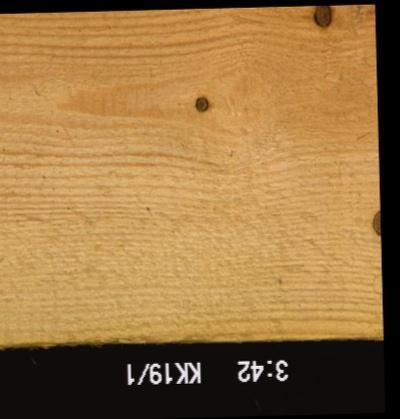dry_knot: (193, 94, 209, 112), (371, 207, 379, 236)
edge_knot: (311, 4, 333, 29)
